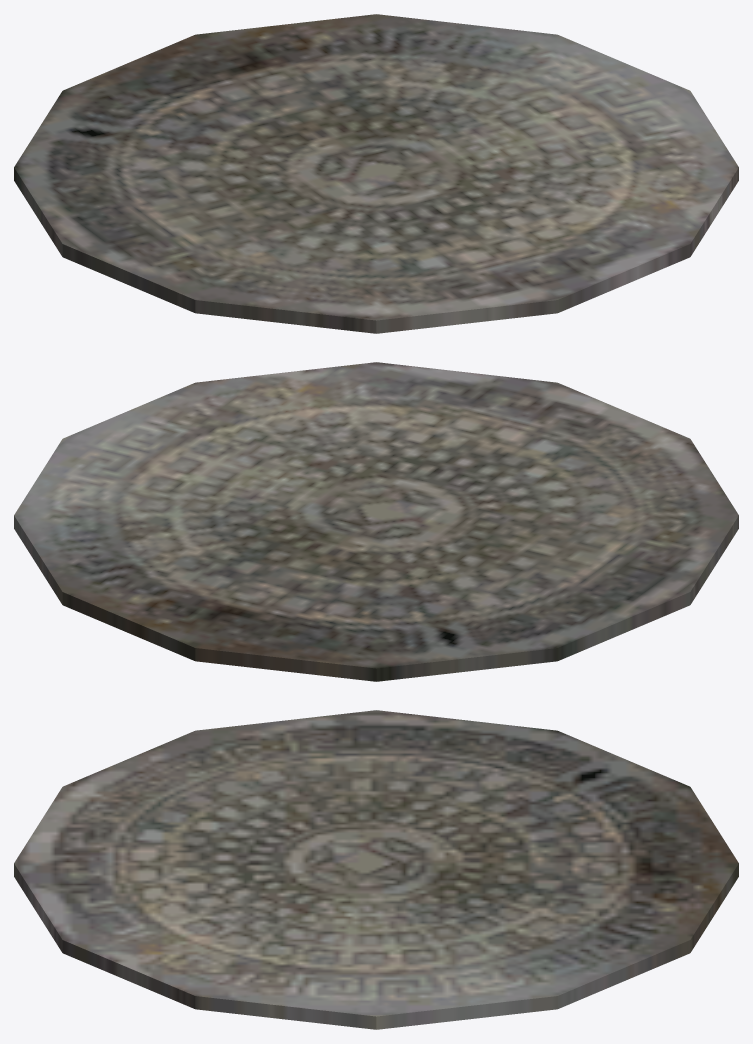
The model's file is manholecover.fbx.
The picture shows the model from 3 angles, top to bottom: view 1: azimuth 30°, elevation 25°; view 2: azimuth 150°, elevation 25°; view 3: azimuth 270°, elevation 25°; orthographic projection.
Visible parts, largest first — view 1: mesh_0; view 2: mesh_0; view 3: mesh_0.
Boxes of the visible parts, <box> form: mesh_0: <box>14,14,738,333</box>; mesh_0: <box>14,362,738,681</box>; mesh_0: <box>14,710,738,1029</box>.
Bounding box in the file's own units: 98.77 × 2 × 98.77.
1 material, 1 textured.
